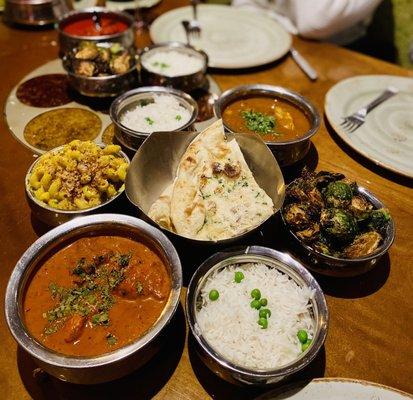sushi: (4, 213, 183, 379), (185, 245, 329, 388), (124, 120, 281, 246), (280, 169, 395, 278), (23, 142, 135, 232), (213, 84, 322, 167), (58, 10, 141, 98), (109, 86, 198, 155)
